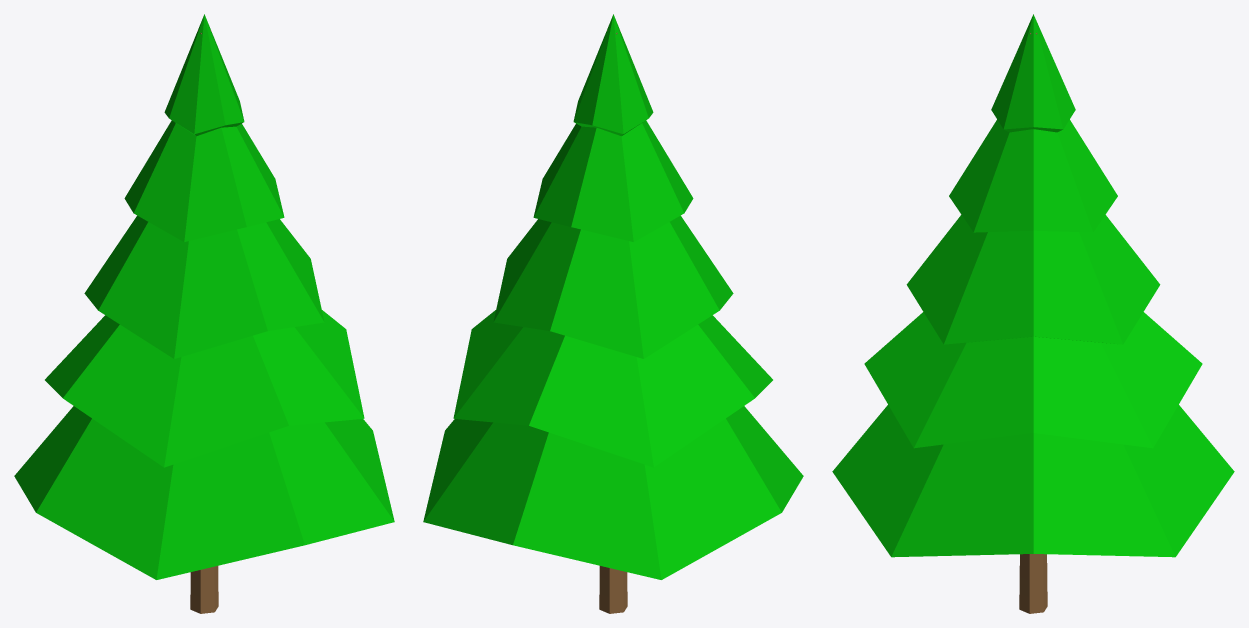
File: Tree_pine.fbx
The picture shows the model from 3 angles, left to right: view 1: azimuth 30°, elevation 25°; view 2: azimuth 150°, elevation 25°; view 3: azimuth 270°, elevation 25°; orthographic projection.
Parts seen in each view (by area): view 1: mesh_tree_pine; view 2: mesh_tree_pine; view 3: mesh_tree_pine.
Part boxes in pixels (<box>): mesh_tree_pine: <box>14,14,394,613</box>; mesh_tree_pine: <box>423,14,803,613</box>; mesh_tree_pine: <box>832,14,1234,613</box>.
Bounding box in the file's own units: 3.43 × 5.77 × 3.54.
